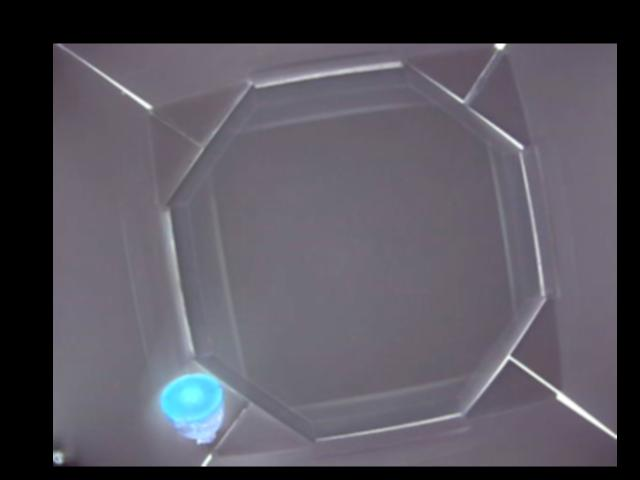Carrot: (160, 374, 224, 443)
